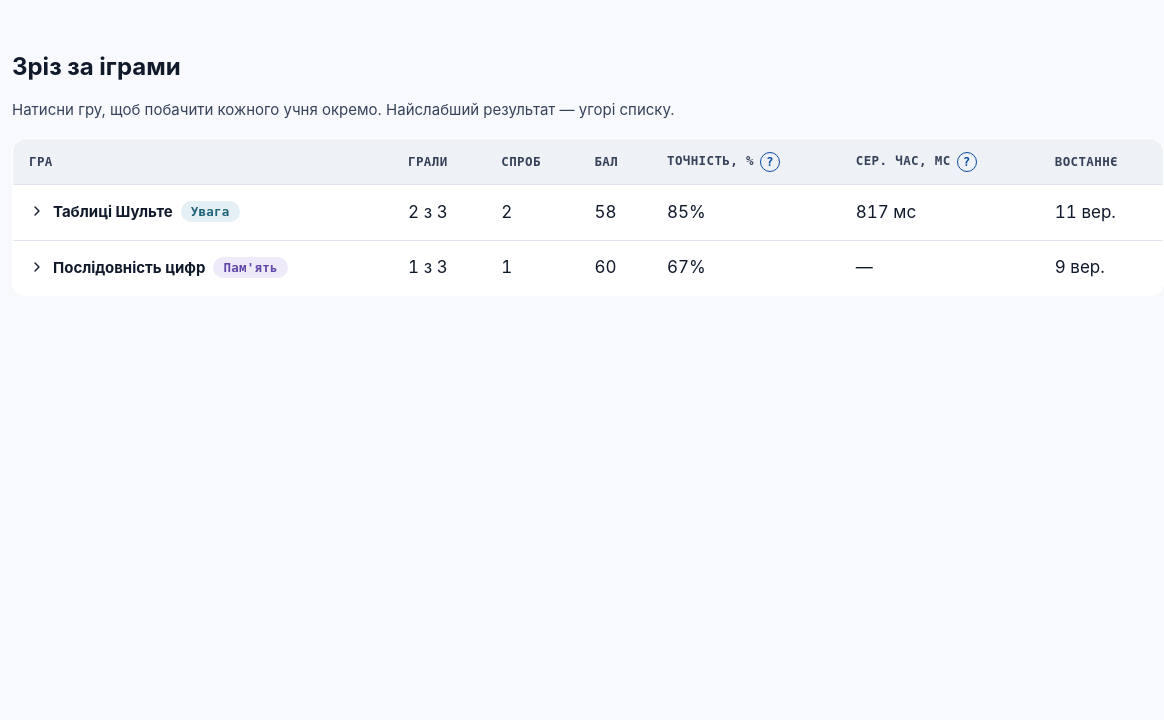
Scenario: зріз за іграми › розгортає гру і показує кожного учня
Click the text "Таблиці Шульте": (113, 211) [53,202,173,221]
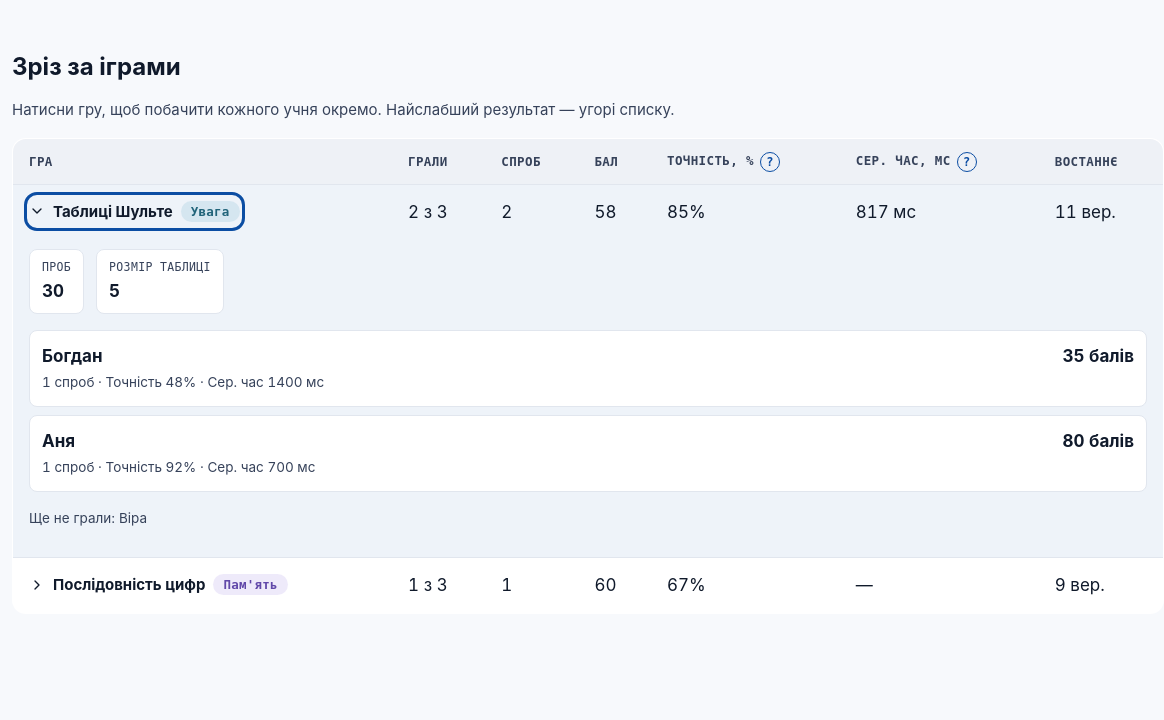
Check: the text "Аня" is shown, box [42,431,75,451]
Check: the text "Богдан" is shown, box [42,346,102,366]
